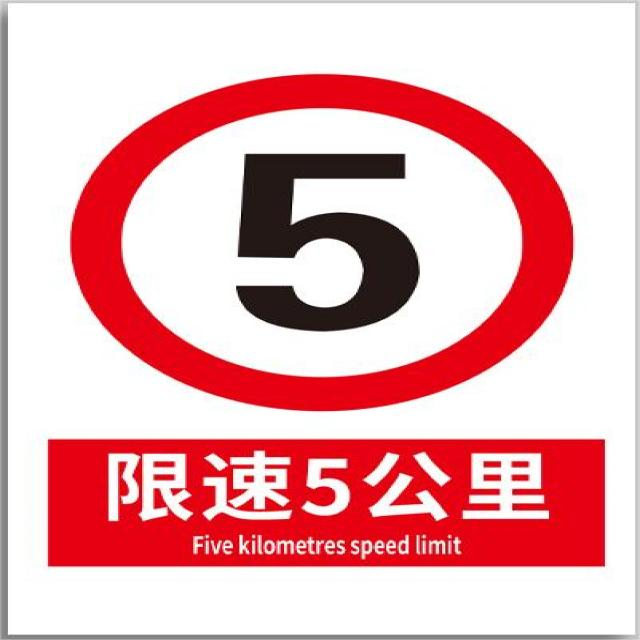speed limit 10: (66, 72, 572, 416)
